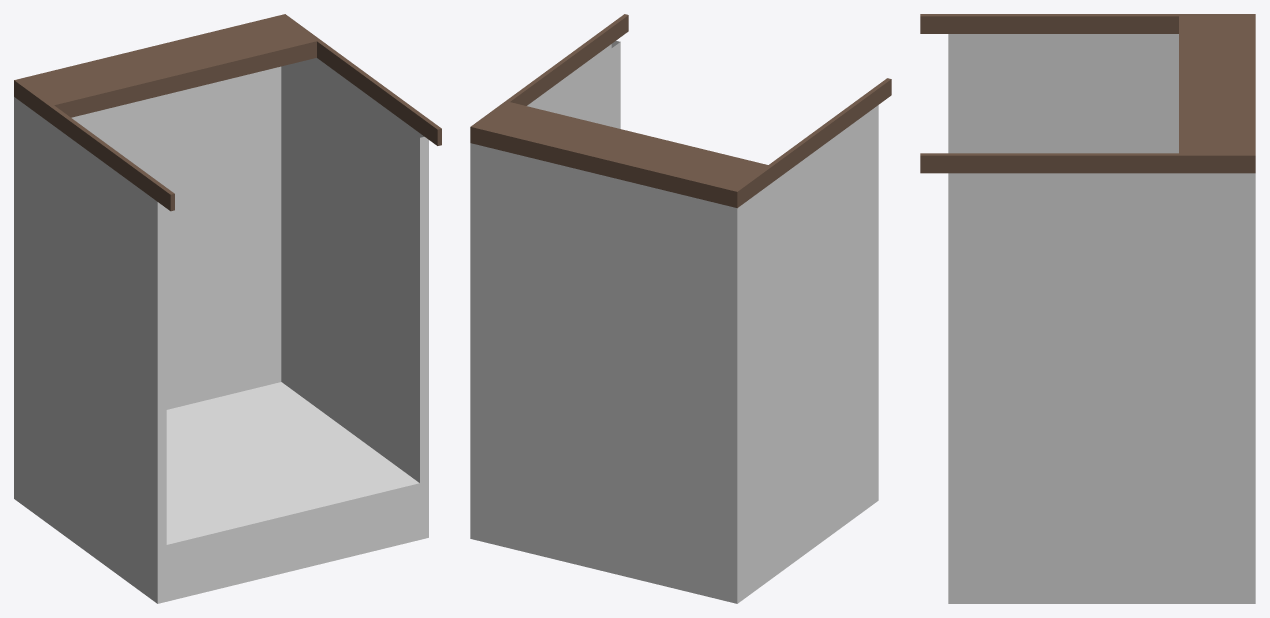
The model's file is Kitchen1_C1_06.fbx.
The picture shows the model from 3 angles, left to right: view 1: azimuth 30°, elevation 25°; view 2: azimuth 150°, elevation 25°; view 3: azimuth 270°, elevation 25°; orthographic projection. The views are drawn at different scales.
Visible parts, largest first — view 1: Kitchen1_C1_06; view 2: Kitchen1_C1_06; view 3: Kitchen1_C1_06.
Boxes of the visible parts, x1,y1,x2,y2 form: Kitchen1_C1_06: [14, 14, 441, 603]; Kitchen1_C1_06: [470, 14, 891, 603]; Kitchen1_C1_06: [920, 14, 1255, 603].
Bounding box in the file's own units: 60 × 88.5 × 60.
